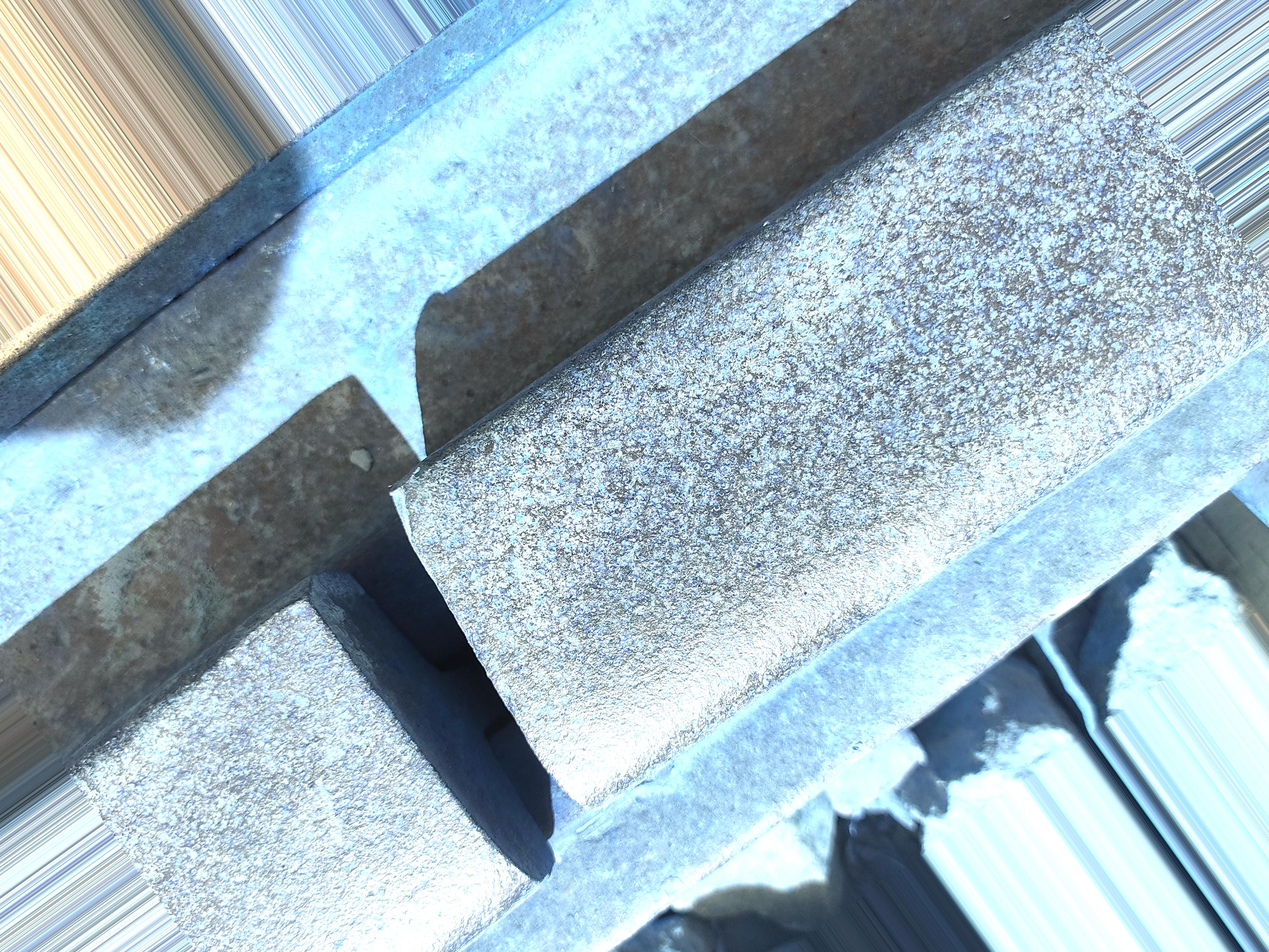tracks_fault: (230, 443, 650, 889)
